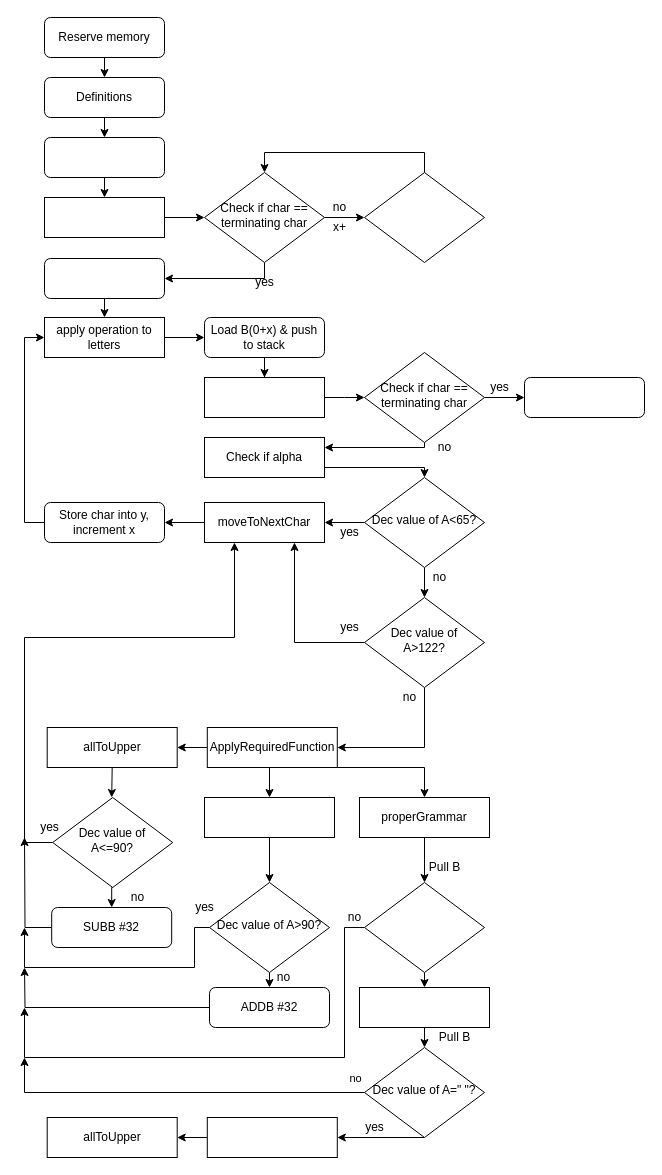
The diagram is 662 pixels wide and 1175 high, and some of its shapes have lost their labels. Here are the shapes that lost their labels. From the top down, the centre of each, then its label:
[104,157]: Start
[104,217]: Check string length
[424,217]: increment A, checkLength
[104,278]: Load input string
[264,397]: Check if terminate
[584,397]: exit
[269,817]: allToLower
[424,927]: Dec value of A="."?
[424,1007]: Potential start
[271,1137]: Definite start
